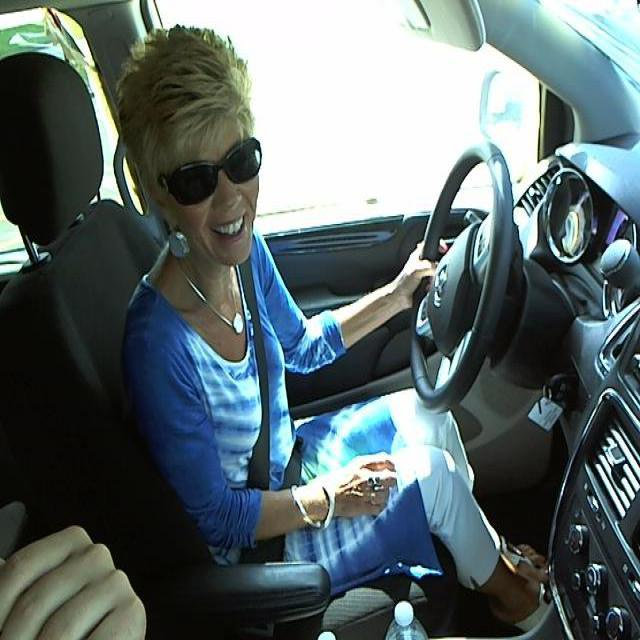seatbelt: (243, 261, 304, 547)
